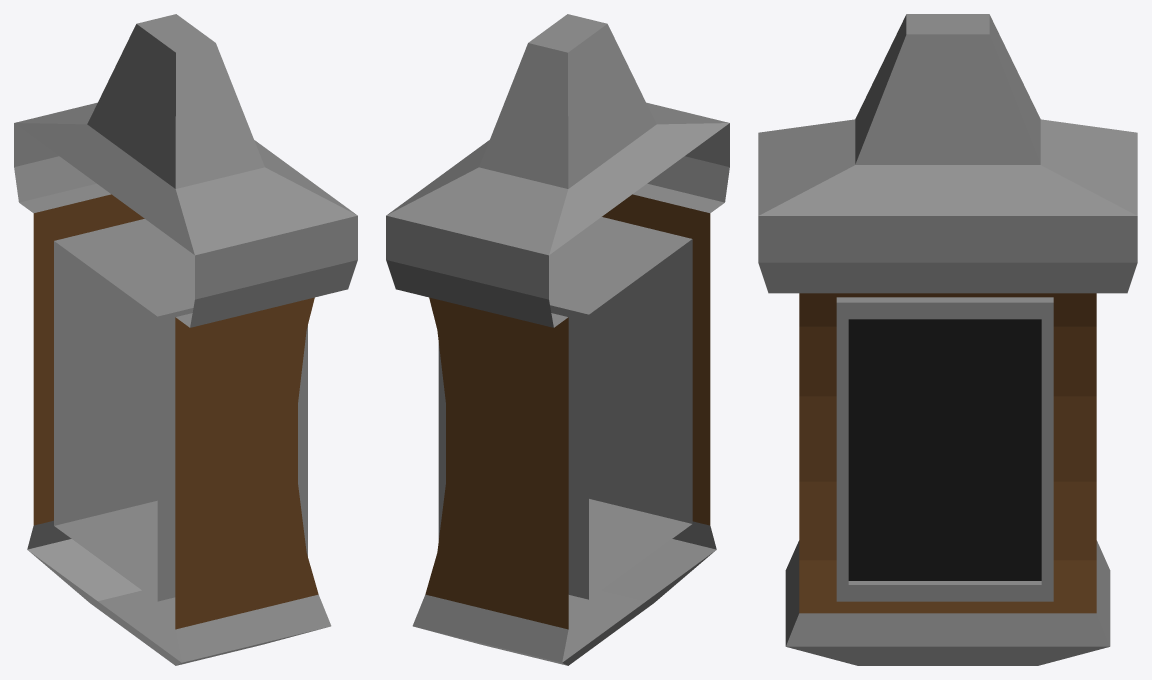
Rendered from trap_arrow (1).fbx.
The picture shows the model from 3 angles, left to right: view 1: azimuth 30°, elevation 25°; view 2: azimuth 150°, elevation 25°; view 3: azimuth 270°, elevation 25°; orthographic projection. The views are drawn at different scales.
Parts seen in each view (by area): view 1: Cube; view 2: Cube; view 3: Cube.
Boxes of the visible parts, left/top/right/bottom form: Cube: left=14, top=14, right=357, bottom=665; Cube: left=386, top=14, right=729, bottom=665; Cube: left=758, top=14, right=1137, bottom=665.
Size of the model in its own units: 24.64 by 85.34 by 47.37.
